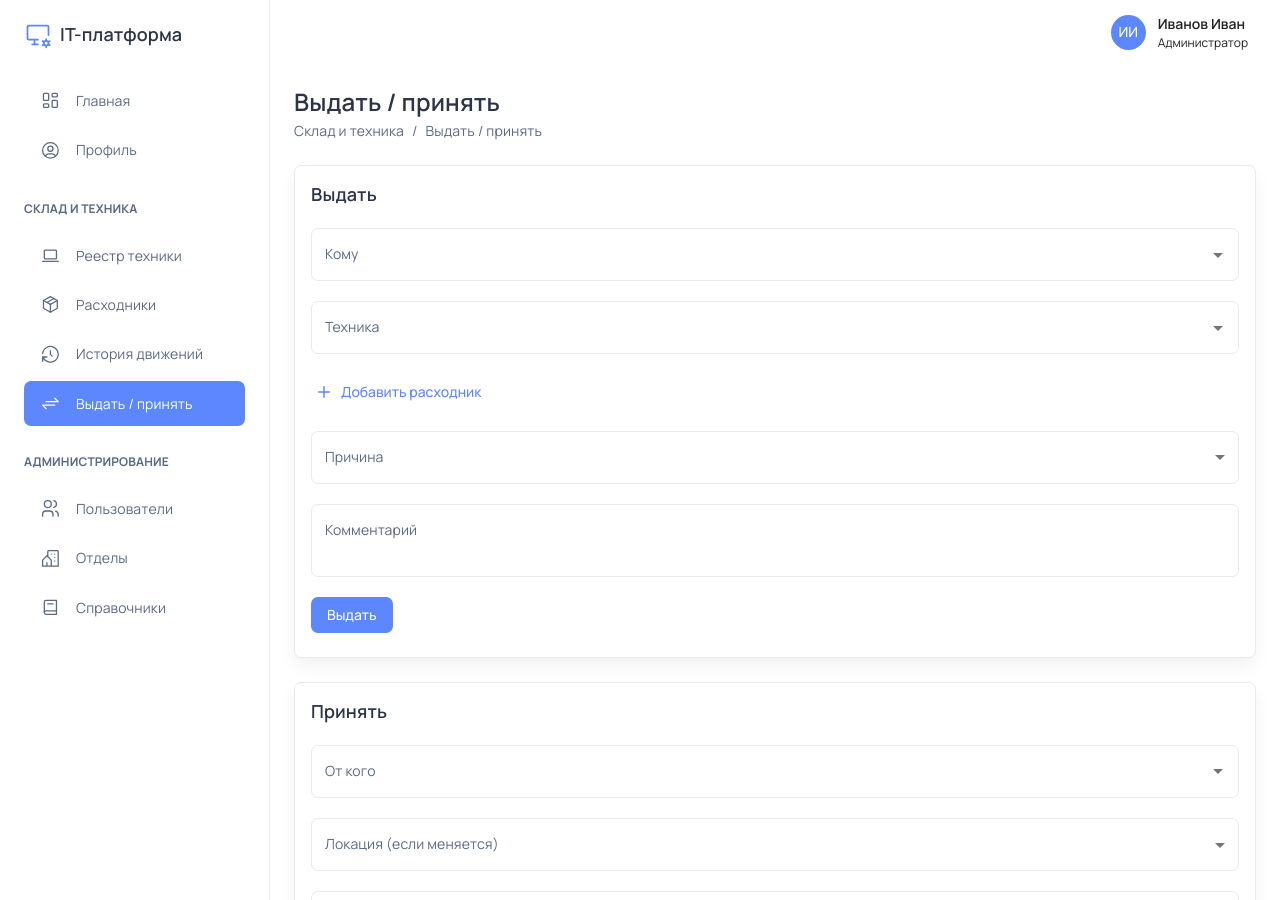
Scenario: выдача без сотрудника и техники подсказывает поля и не отправляет запрос
Click the button "Выдать" at (352, 615), box [311,597,393,633]
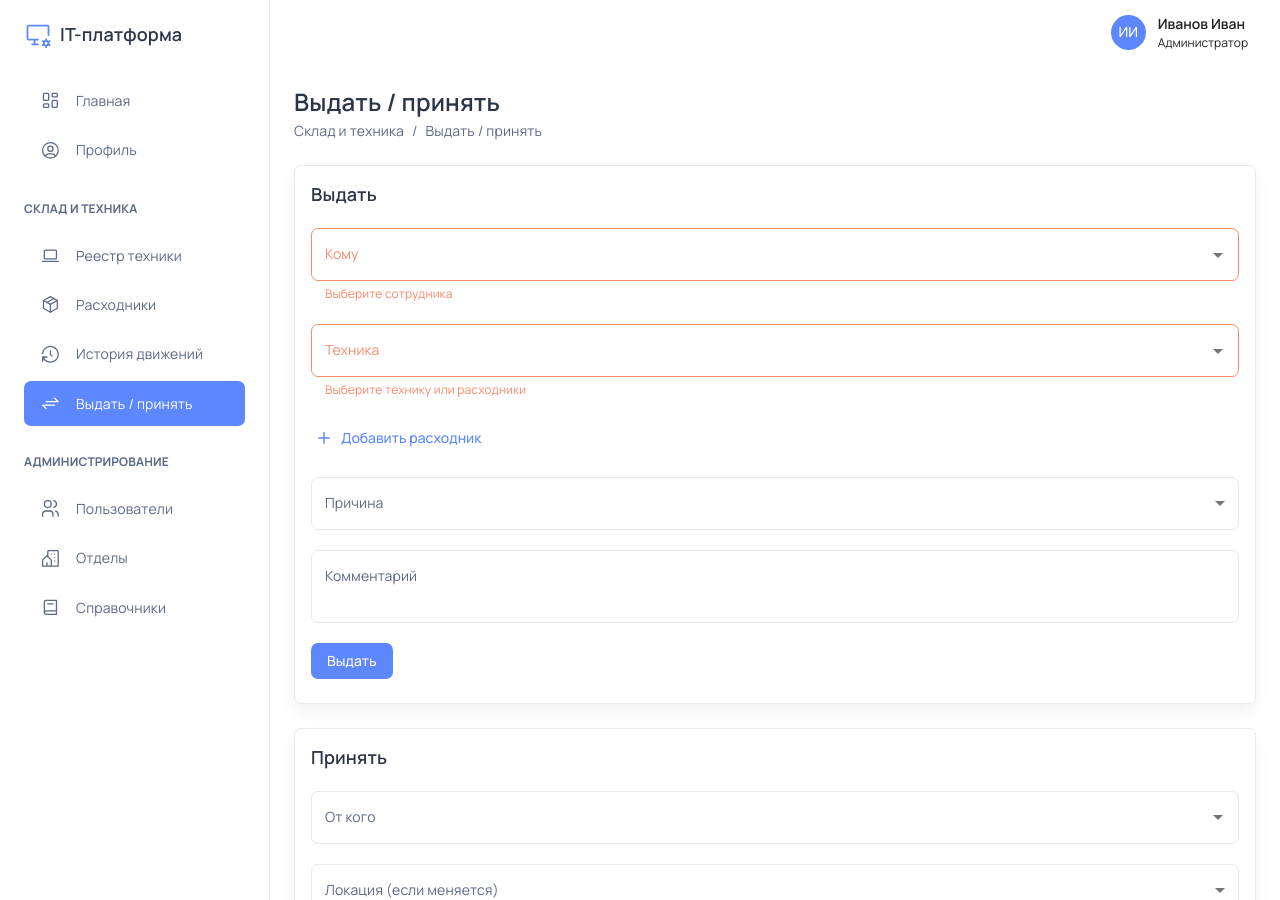
Now the text "Выберите сотрудника" is shown, box [325,285,452,302]
Now the text "Выберите технику или расходники" is shown, box [325,381,526,398]
